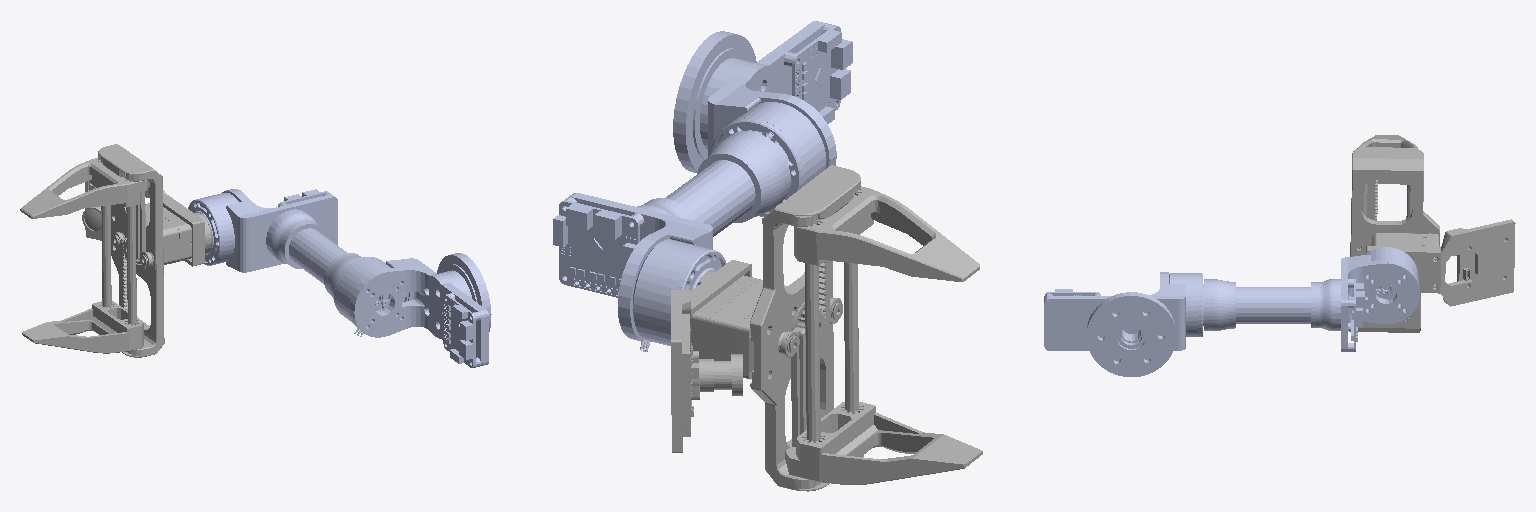
URDF robot description (5-DOF_Arm_ASY):
<?xml version="1.0" encoding="utf-8"?>
<!-- This URDF was automatically created by SolidWorks to URDF Exporter! Originally created by Stephen Brawner (brawner@gmail.com) 
     Commit Version: 1.6.0-4-g7f85cfe  Build Version: 1.6.7995.38578
     For more information, please see http://wiki.ros.org/sw_urdf_exporter -->
<robot
  name="5-DOF_Arm_ASY">
  <link
    name="base_link">
    <inertial>
      <origin
        xyz="-0.00663853071847152 0.254325881488244 4.81691010618269E-05"
        rpy="0 0 0" />
      <mass
        value="3.25995280603493" />
      <inertia
        ixx="0.00682886048664753"
        ixy="-6.8460186315741E-05"
        ixz="-1.91003128402673E-07"
        iyy="0.00575042818006955"
        iyz="-1.35715477402595E-06"
        izz="0.00454828827288072" />
    </inertial>
    <visual>
      <origin
        xyz="0 0 0"
        rpy="0 0 0" />
      <geometry>
        <mesh
          filename="package://5-DOF_Arm_ASY/meshes/base_link.STL" />
      </geometry>
      <material
        name="">
        <color
          rgba="0.752941176470588 0.752941176470588 0.752941176470588 1" />
      </material>
    </visual>
    <collision>
      <origin
        xyz="0 0 0"
        rpy="0 0 0" />
      <geometry>
        <mesh
          filename="package://5-DOF_Arm_ASY/meshes/base_link.STL" />
      </geometry>
    </collision>
  </link>
  <link
    name="shoulder_link">
    <inertial>
      <origin
        xyz="0.00455797125216986 0.113495824081398 1.30476163865285E-08"
        rpy="0 0 0" />
      <mass
        value="0.938949864287003" />
      <inertia
        ixx="0.0032722828750638"
        ixy="-1.30793334529102E-05"
        ixz="-7.39855429718349E-09"
        iyy="0.00173953615004112"
        iyz="-5.20558993645056E-08"
        izz="0.00173416735571836" />
    </inertial>
    <visual>
      <origin
        xyz="0 0 0"
        rpy="0 0 0" />
      <geometry>
        <mesh
          filename="package://5-DOF_Arm_ASY/meshes/shoulder_link.STL" />
      </geometry>
      <material
        name="">
        <color
          rgba="0.792156862745098 0.819607843137255 0.933333333333333 1" />
      </material>
    </visual>
    <collision>
      <origin
        xyz="0 0 0"
        rpy="0 0 0" />
      <geometry>
        <mesh
          filename="package://5-DOF_Arm_ASY/meshes/shoulder_link.STL" />
      </geometry>
    </collision>
  </link>
  <joint
    name="shoulder_pan"
    type="revolute">
    <origin
      xyz="0 0.08968 0"
      rpy="0 0 0" />
    <parent
      link="base_link" />
    <child
      link="shoulder_link" />
    <axis
      xyz="0 1 0" />
    <limit
      lower="-1.57"
      upper="1.57"
      effort="6"
      velocity="2.094" />
  </joint>
  <link
    name="upper_arm_link">
    <inertial>
      <origin
        xyz="-0.00180750567433341 0.173246571191649 4.08974846701979E-05"
        rpy="0 0 0" />
      <mass
        value="0.801352411341916" />
      <inertia
        ixx="0.00144154894015789"
        ixy="-7.04457401512263E-05"
        ixz="-5.86484554602239E-08"
        iyy="0.00071947200534214"
        iyz="-1.80844924602218E-07"
        izz="0.000915020760862957" />
    </inertial>
    <visual>
      <origin
        xyz="0 0 0"
        rpy="0 0 0" />
      <geometry>
        <mesh
          filename="package://5-DOF_Arm_ASY/meshes/upper_arm_link.STL" />
      </geometry>
      <material
        name="">
        <color
          rgba="0.752941176470588 0.752941176470588 1 1" />
      </material>
    </visual>
    <collision>
      <origin
        xyz="0 0 0"
        rpy="0 0 0" />
      <geometry>
        <mesh
          filename="package://5-DOF_Arm_ASY/meshes/upper_arm_link.STL" />
      </geometry>
    </collision>
  </link>
  <joint
    name="shoulder_lift"
    type="revolute">
    <origin
      xyz="0 0.122 0"
      rpy="0 0 0" />
    <parent
      link="shoulder_link" />
    <child
      link="upper_arm_link" />
    <axis
      xyz="-1 0 0" />
    <limit
      lower="-1.57"
      upper="1.57"
      effort="8"
      velocity="1.571" />
  </joint>
  <link
    name="elbow_link">
    <inertial>
      <origin
        xyz="-0.0307332033438824 0.248490296716952 5.4153244018764E-06"
        rpy="0 0 0" />
      <mass
        value="0.0657083760191284" />
      <inertia
        ixx="4.2637205610944E-05"
        ixy="5.53811761587028E-06"
        ixz="4.52593449380983E-09"
        iyy="1.73498252252824E-05"
        iyz="2.86355028105232E-08"
        izz="3.88115763209182E-05" />
    </inertial>
    <visual>
      <origin
        xyz="0 0 0"
        rpy="0 0 0" />
      <geometry>
        <mesh
          filename="package://5-DOF_Arm_ASY/meshes/elbow_link.STL" />
      </geometry>
      <material
        name="">
        <color
          rgba="0.792156862745098 0.819607843137255 0.933333333333333 1" />
      </material>
    </visual>
    <collision>
      <origin
        xyz="0 0 0"
        rpy="0 0 0" />
      <geometry>
        <mesh
          filename="package://5-DOF_Arm_ASY/meshes/elbow_link.STL" />
      </geometry>
    </collision>
  </link>
  <joint
    name="elbow_flex"
    type="revolute">
    <origin
      xyz="0 0 0"
      rpy="0 0 0" />
    <parent
      link="upper_arm_link" />
    <child
      link="elbow_link" />
    <axis
      xyz="-1 0 0" />
    <limit
      lower="-1.57"
      upper="1.57"
      effort="6"
      velocity="2.094" />
  </joint>
  <link
    name="forearm_link">
    <inertial>
      <origin
        xyz="-0.00265421705144897 0.0729550851834355 0.000159744100449932"
        rpy="0 0 0" />
      <mass
        value="0.0855230311922609" />
      <inertia
        ixx="2.27627857558119E-05"
        ixy="4.26014094253286E-06"
        ixz="-3.01720208836961E-08"
        iyy="2.63846802670283E-05"
        iyz="-3.93646159492646E-08"
        izz="2.90161813728108E-05" />
    </inertial>
    <visual>
      <origin
        xyz="0 0 0"
        rpy="0 0 0" />
      <geometry>
        <mesh
          filename="package://5-DOF_Arm_ASY/meshes/forearm_link.STL" />
      </geometry>
      <material
        name="">
        <color
          rgba="0.792156862745098 0.819607843137255 0.933333333333333 1" />
      </material>
    </visual>
    <collision>
      <origin
        xyz="0 0 0"
        rpy="0 0 0" />
      <geometry>
        <mesh
          filename="package://5-DOF_Arm_ASY/meshes/forearm_link.STL" />
      </geometry>
    </collision>
  </link>
  <joint
    name="wrist_flex"
    type="revolute">
    <origin
      xyz="-0.0605 0.272 0"
      rpy="0 0 0" />
    <parent
      link="elbow_link" />
    <child
      link="forearm_link" />
    <axis
      xyz="0 1 0" />
    <limit
      lower="-1.57"
      upper="1.57"
      effort="2"
      velocity="3.142" />
  </joint>
  <link
    name="gripper_link">
    <inertial>
      <origin
        xyz="-0.0146620900215039 -1.47928303506628E-06 2.68998071692594E-06"
        rpy="0 0 0" />
      <mass
        value="0.0286256293963192" />
      <inertia
        ixx="6.83115713456772E-06"
        ixy="-9.4092509073956E-11"
        ixz="1.71059182478324E-10"
        iyy="4.29016303006166E-06"
        iyz="1.34827576108317E-09"
        izz="4.28845291998976E-06" />
    </inertial>
    <visual>
      <origin
        xyz="0 0 0"
        rpy="0 0 0" />
      <geometry>
        <mesh
          filename="package://5-DOF_Arm_ASY/meshes/gripper_link.STL" />
      </geometry>
      <material
        name="">
        <color
          rgba="0.792156862745098 0.819607843137255 0.933333333333333 1" />
      </material>
    </visual>
    <collision>
      <origin
        xyz="0 0 0"
        rpy="0 0 0" />
      <geometry>
        <mesh
          filename="package://5-DOF_Arm_ASY/meshes/gripper_link.STL" />
      </geometry>
    </collision>
  </link>
  <joint
    name="wrist_roll"
    type="revolute">
    <origin
      xyz="-0.02075 0.148 0"
      rpy="0 0 0" />
    <parent
      link="forearm_link" />
    <child
      link="gripper_link" />
    <axis
      xyz="-1 0 0" />
    <limit
      lower="-1.57"
      upper="1.57"
      effort="1.5"
      velocity="4.189" />
  </joint>
  <link
    name="end_effector">
    <inertial>
      <origin
        xyz="0.00636514296160179 0.0126956888962649 -0.000241917415701468"
        rpy="0 0 0" />
      <mass
        value="0.106641886707924" />
      <inertia
        ixx="0.000110378060596757"
        ixy="5.2629198727399E-06"
        ixz="-1.08472456105286E-07"
        iyy="9.16444663141654E-05"
        iyz="-8.26088251149669E-07"
        izz="5.06125099618507E-05" />
    </inertial>
    <visual>
      <origin
        xyz="0 0 0"
        rpy="0 0 0" />
      <geometry>
        <mesh
          filename="package://5-DOF_Arm_ASY/meshes/end_effector.STL" />
      </geometry>
      <material
        name="">
        <color
          rgba="0.752941176470588 0.752941176470588 0.752941176470588 1" />
      </material>
    </visual>
    <collision>
      <origin
        xyz="0 0 0"
        rpy="0 0 0" />
      <geometry>
        <mesh
          filename="package://5-DOF_Arm_ASY/meshes/end_effector.STL" />
      </geometry>
    </collision>
  </link>
  <joint
    name="gripper"
    type="fixed">
    <origin
      xyz="-0.079773 0 0"
      rpy="0 0 0" />
    <parent
      link="gripper_link" />
    <child
      link="end_effector" />
    <axis
      xyz="0 0 0" />
  </joint>
</robot>

--- Render facts (derived) ---
The picture shows the robot from 3 angles, left to right: view 1: azimuth 30°, elevation 25°; view 2: azimuth 150°, elevation 25°; view 3: azimuth 270°, elevation 25°; orthographic projection.
Model 5-DOF_Arm_ASY with 7 links and 6 joints (5 revolute, 1 fixed), rooted at base_link, posed all joints at 0.
Links seen in each view (by area): view 1: end_effector, elbow_link, forearm_link, gripper_link; view 2: end_effector, forearm_link, elbow_link, gripper_link; view 3: end_effector, forearm_link, elbow_link, gripper_link.
Link boxes in pixels (box(x1,y1,x2,y2)): end_effector: box(20, 144, 211, 357); elbow_link: box(350, 253, 491, 367); forearm_link: box(222, 189, 408, 336); gripper_link: box(188, 193, 238, 265); end_effector: box(671, 165, 982, 491); forearm_link: box(553, 102, 825, 340); elbow_link: box(673, 21, 852, 172); gripper_link: box(632, 239, 726, 351); end_effector: box(1349, 135, 1515, 332); forearm_link: box(1169, 255, 1419, 351); elbow_link: box(1044, 272, 1185, 376); gripper_link: box(1364, 247, 1418, 322).
Bounding box of the posed robot: 0.2243 × 0.3141 × 0.1289 m (x, y, z).
4 mesh visuals loaded from 7 distinct referenced files (4 binary STL); not drawn: 3 (reference not matched to a file when rendering).
